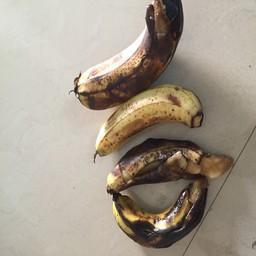Bad_banana: (67, 0, 235, 253)
